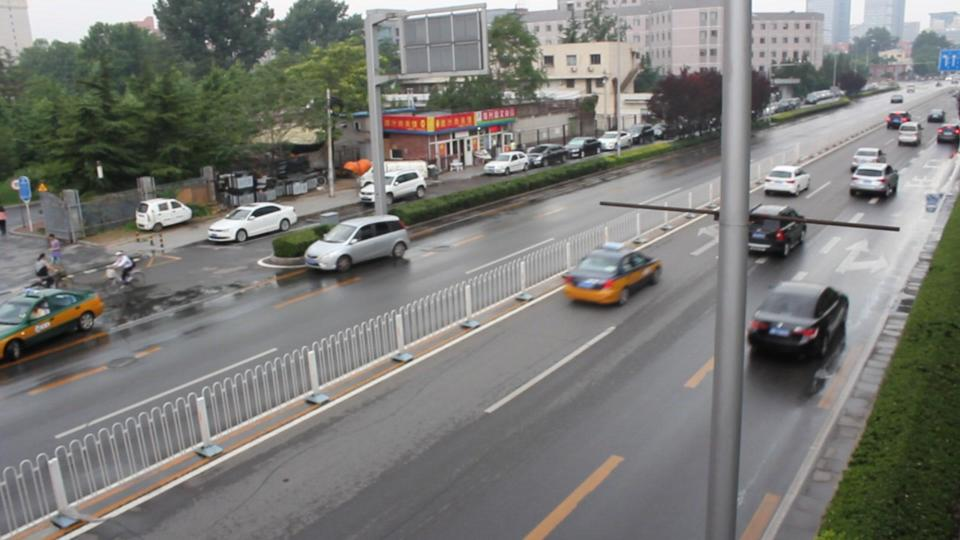car: (746, 280, 850, 358), (1, 285, 104, 361), (560, 242, 663, 306), (206, 201, 298, 244), (760, 164, 811, 197), (850, 148, 888, 168)
microbus: (302, 214, 410, 272)
suv: (740, 202, 806, 258), (356, 172, 427, 204), (847, 163, 900, 199)
truck: (359, 159, 431, 190)
